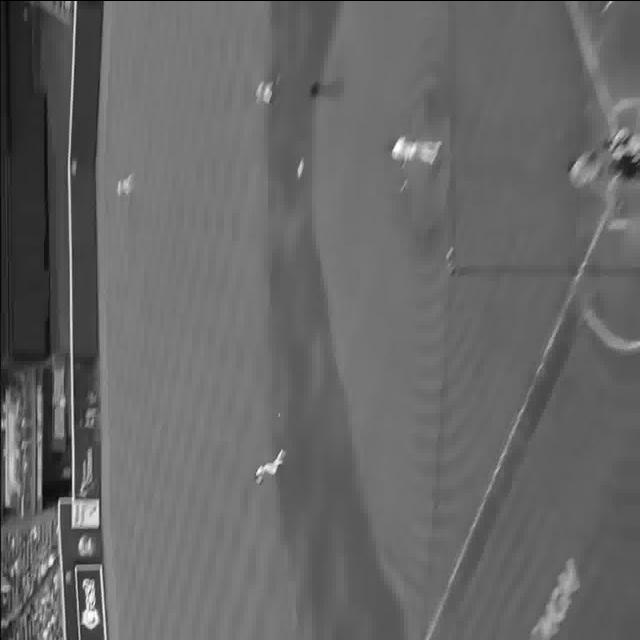base: (296, 157, 306, 175)
baseball: (276, 411, 282, 418)
shoe: (433, 140, 442, 156), (428, 150, 438, 162)
